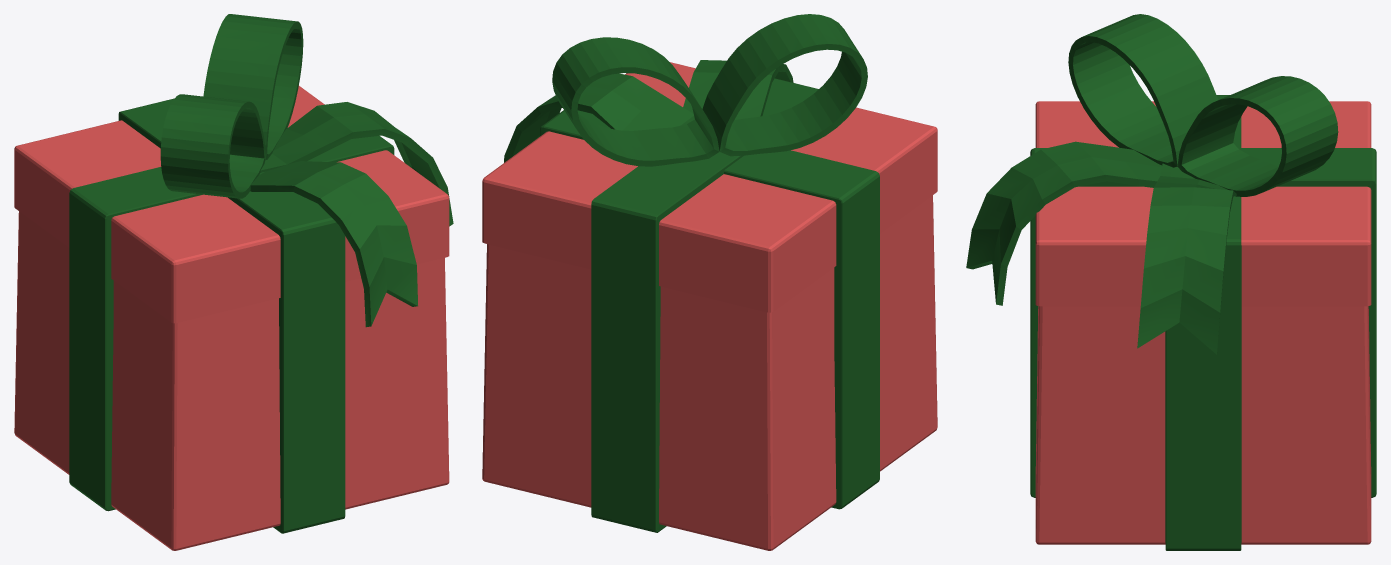
The model's file is GiftBox.fbx.
3 renders of one model, left to right at view 1: azimuth 30°, elevation 25°; view 2: azimuth 150°, elevation 25°; view 3: azimuth 270°, elevation 25°, orthographic. The views are drawn at different scales.
Parts seen in each view (by area): view 1: Kutu, Kutu.001, Cube.001; view 2: Kutu, Kutu.001, Cube.001; view 3: Kutu, Cube.001, Kutu.001.
Part boxes in pixels (x1=…): Kutu: x1=14, y1=85, x2=449, y2=550; Kutu.001: x1=69, y1=98, x2=394, y2=533; Cube.001: x1=160, y1=14, x2=453, y2=327; Kutu: x1=482, y1=62, x2=937, y2=550; Kutu.001: x1=540, y1=78, x2=879, y2=532; Cube.001: x1=504, y1=14, x2=867, y2=166; Kutu: x1=1035, y1=101, x2=1371, y2=544; Cube.001: x1=966, y1=14, x2=1338, y2=354; Kutu.001: x1=1030, y1=95, x2=1376, y2=550.
Bounding box in the file's own units: 24.26 × 27.75 × 24.44.
